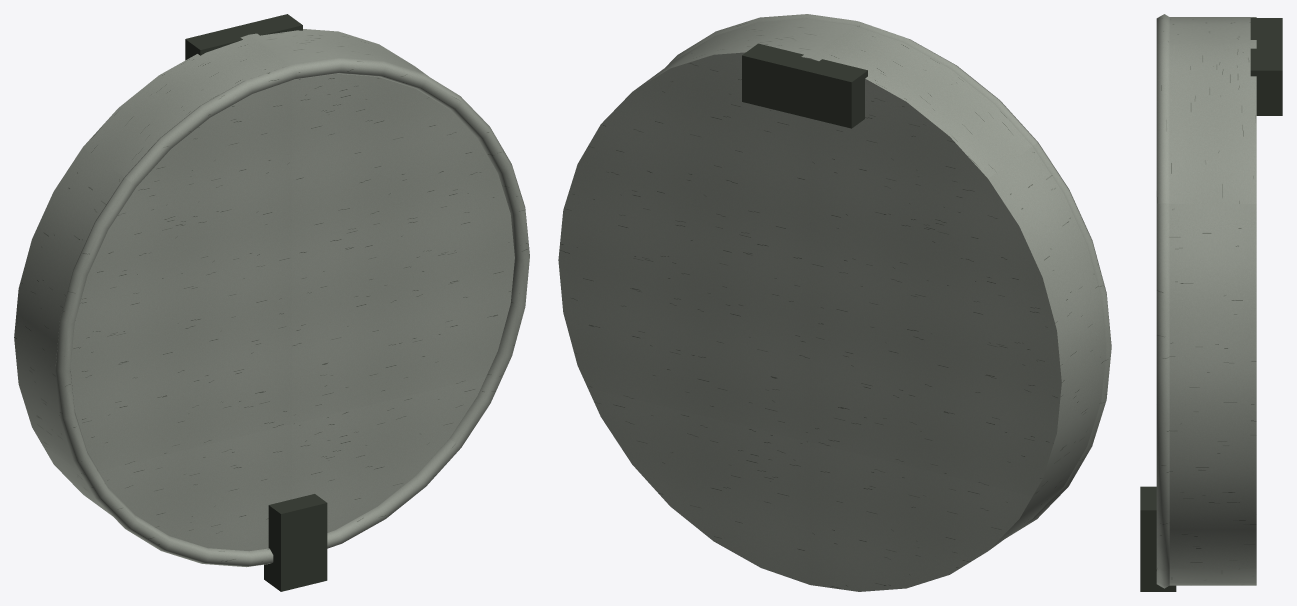
File: SM_FieldKit_LampHood.glb
The picture shows the model from 3 angles, left to right: view 1: azimuth 30°, elevation 25°; view 2: azimuth 150°, elevation 25°; view 3: azimuth 270°, elevation 25°; orthographic projection. The views are drawn at different scales.
Visible parts, largest first — view 1: SM_FieldKit_LampHood; view 2: SM_FieldKit_LampHood; view 3: SM_FieldKit_LampHood.
Part boxes in pixels (<box>): SM_FieldKit_LampHood: <box>14,14,529,591</box>; SM_FieldKit_LampHood: <box>558,14,1111,591</box>; SM_FieldKit_LampHood: <box>1140,14,1282,591</box>.
Size of the model in its own units: 0.287 by 0.297 by 0.071.
Materials: 2 (1 with a texture image).
